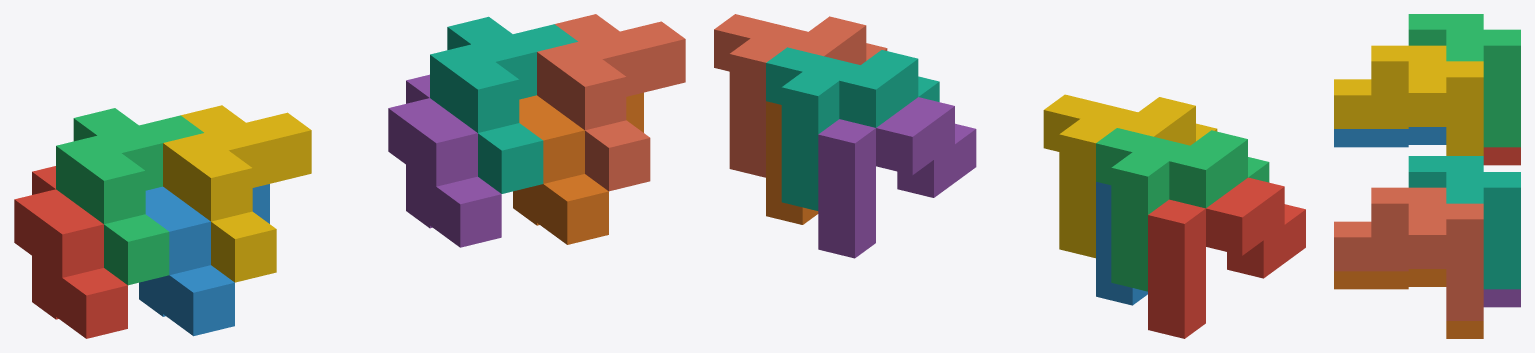
Rendered from tiling.obj.
3 views of the same model, side by side, from view 1: azimuth 30°, elevation 25°; view 2: azimuth 150°, elevation 25°; view 3: azimuth 270°, elevation 25° (orthographic). The views are drawn at different scales.
Parts seen in each view (by area): view 1: copy_1_domain_8, copy_1_domain_4, copy_1_domain_7, copy_1_domain_3, copy_1_domain_5, copy_1_domain_1, copy_1_domain_6, copy_1_domain_2; view 2: copy_1_domain_5, copy_1_domain_1, copy_1_domain_7, copy_1_domain_3, copy_1_domain_4, copy_1_domain_8, copy_1_domain_6, copy_1_domain_2; view 3: copy_1_domain_8, copy_1_domain_4, copy_1_domain_3, copy_1_domain_7, copy_1_domain_6, copy_1_domain_2, copy_1_domain_1, copy_1_domain_5.
Boxes of the visible parts, <box> form: copy_1_domain_8: <box>537,14,685,191</box>; copy_1_domain_4: <box>163,105,311,282</box>; copy_1_domain_7: <box>430,16,577,193</box>; copy_1_domain_3: <box>56,108,203,285</box>; copy_1_domain_5: <box>388,74,501,247</box>; copy_1_domain_1: <box>14,166,127,338</box>; copy_1_domain_6: <box>513,92,643,244</box>; copy_1_domain_2: <box>139,184,269,336</box>; copy_1_domain_5: <box>818,97,976,258</box>; copy_1_domain_1: <box>1148,177,1305,338</box>; copy_1_domain_7: <box>766,47,939,210</box>; copy_1_domain_3: <box>1096,128,1269,291</box>; copy_1_domain_4: <box>1043,94,1217,258</box>; copy_1_domain_8: <box>714,14,887,177</box>; copy_1_domain_6: <box>766,101,818,224</box>; copy_1_domain_2: <box>1096,181,1147,305</box>; copy_1_domain_8: <box>1334,187,1483,320</box>; copy_1_domain_4: <box>1334,45,1483,155</box>; copy_1_domain_3: <box>1408,14,1520,147</box>; copy_1_domain_7: <box>1408,156,1520,289</box>; copy_1_domain_6: <box>1334,269,1483,338</box>; copy_1_domain_2: <box>1334,127,1446,147</box>; copy_1_domain_1: <box>1483,147,1520,165</box>; copy_1_domain_5: <box>1483,289,1520,307</box>.
Size of the model in its own units: 15 by 4 by 5.
